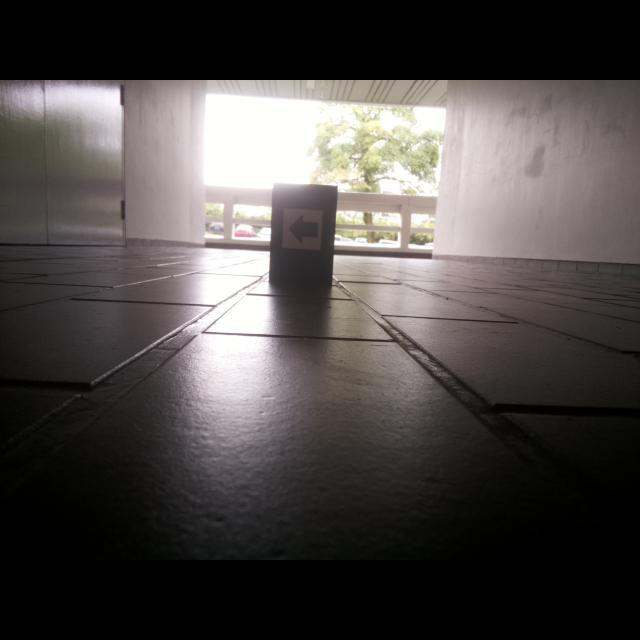LEFT: (287, 212, 319, 246)
